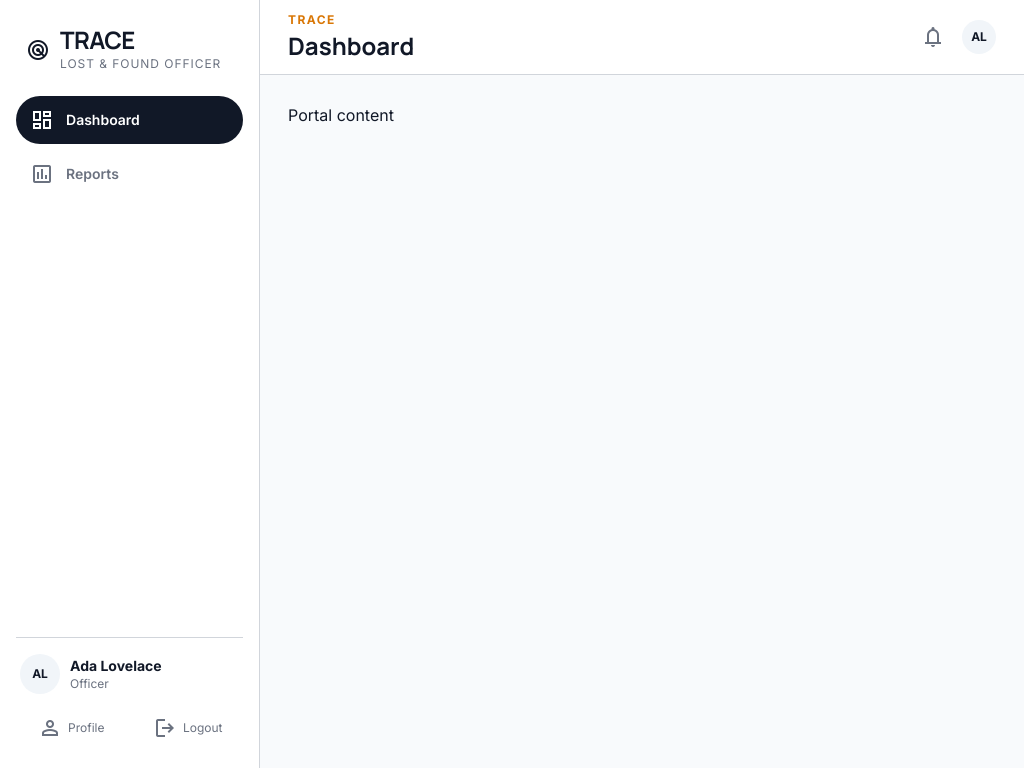
Test: AppShell › clears the session when Logout is clicked
The width and height of the screenshot is (1024, 768).
Click the button "Logout".
click(188, 728)  # box [132,708,243,748]
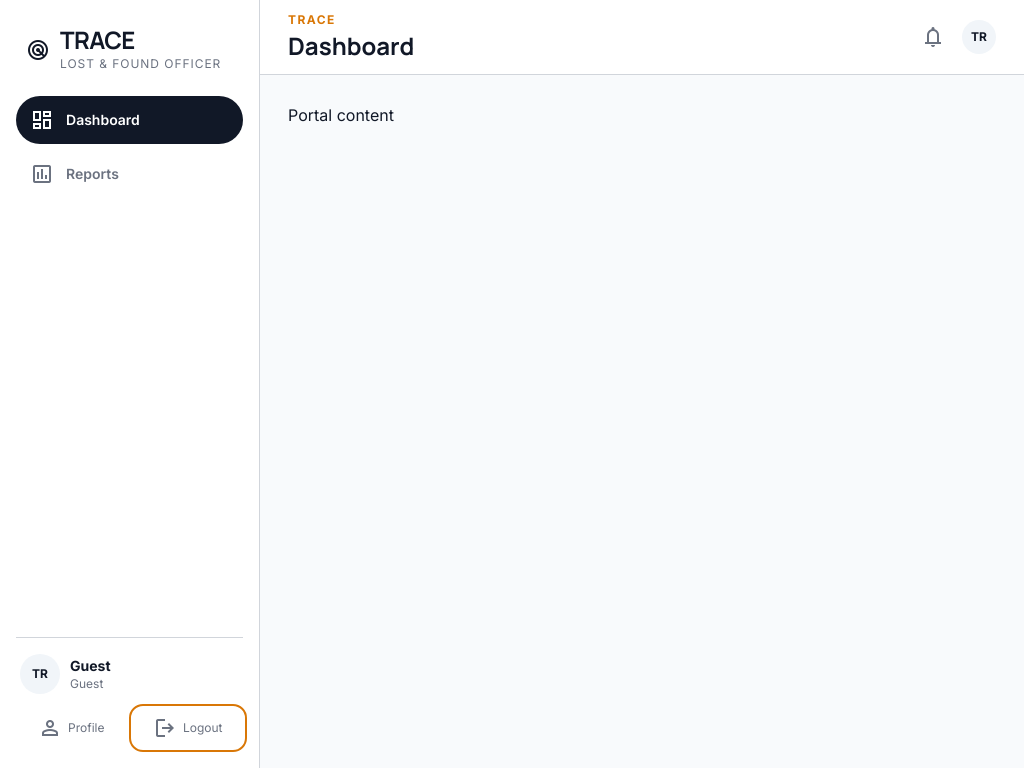
Result: the 1st text "Guest" is shown at [70,656,110,676]
